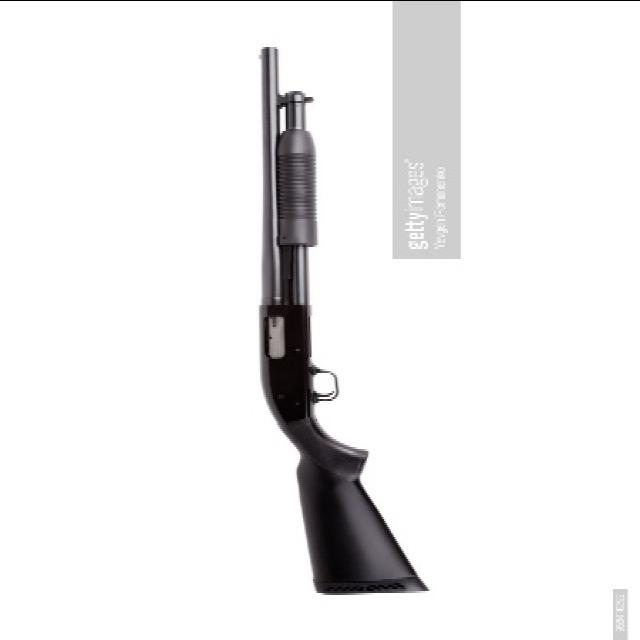rifle: (236, 45, 416, 621)
